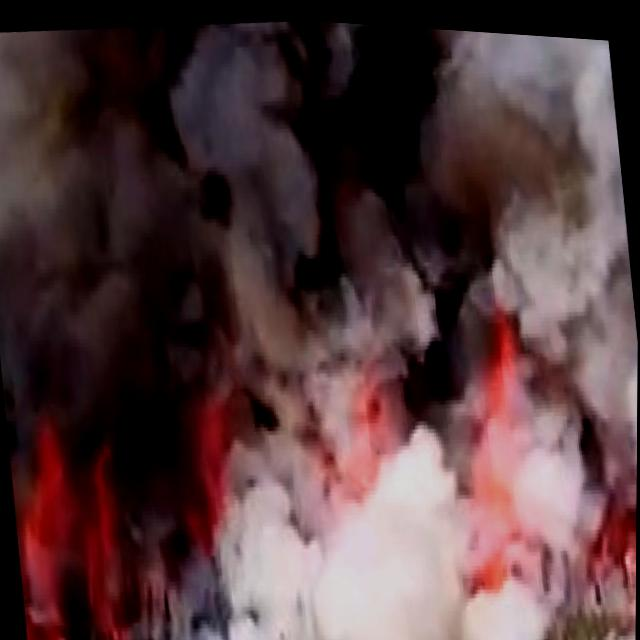smoke: (0, 0, 460, 299)
